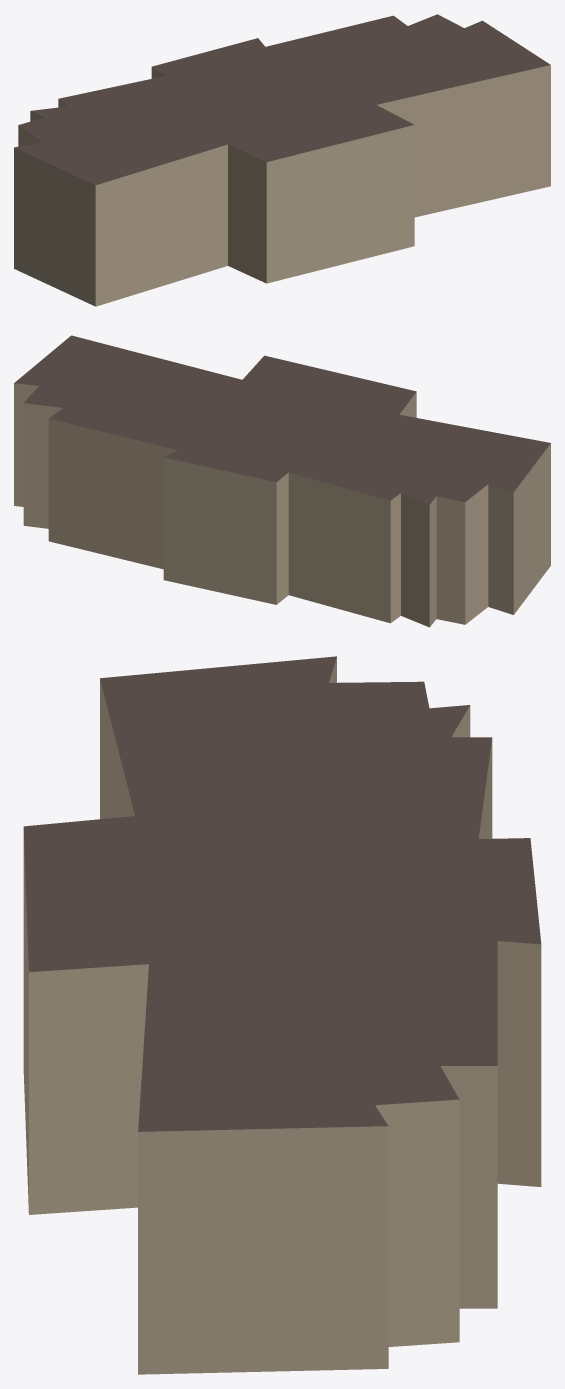
The picture shows the model from 3 angles, top to bottom: view 1: azimuth 30°, elevation 25°; view 2: azimuth 150°, elevation 25°; view 3: azimuth 270°, elevation 25°; orthographic projection. The views are drawn at different scales.
Visible parts, largest first — view 1: HP-w1512911264; view 2: HP-w1512911264; view 3: HP-w1512911264.
Part boxes in pixels (box(x1,y1,x2,y2)): HP-w1512911264: box(14, 14, 550, 306); HP-w1512911264: box(14, 335, 550, 627); HP-w1512911264: box(23, 656, 541, 1374).
Bounding box in the file's own units: 37.81 × 9 × 17.4.
